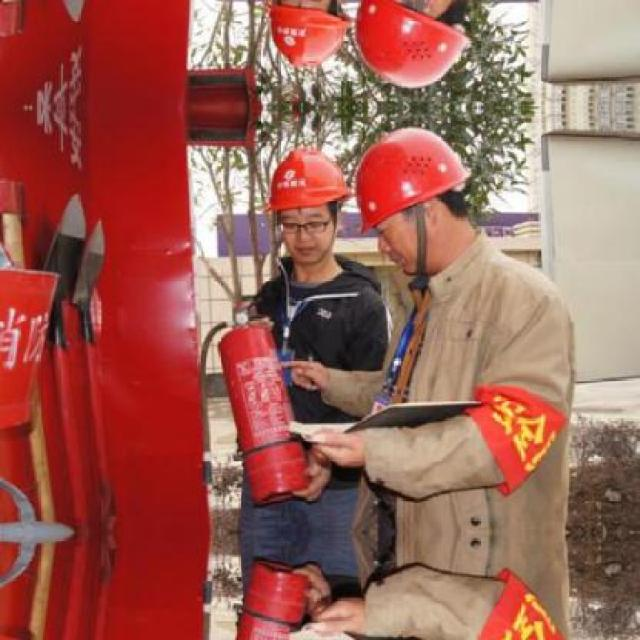helmet: (342, 126, 488, 272), (342, 0, 489, 88), (258, 142, 352, 270), (257, 0, 352, 71)
